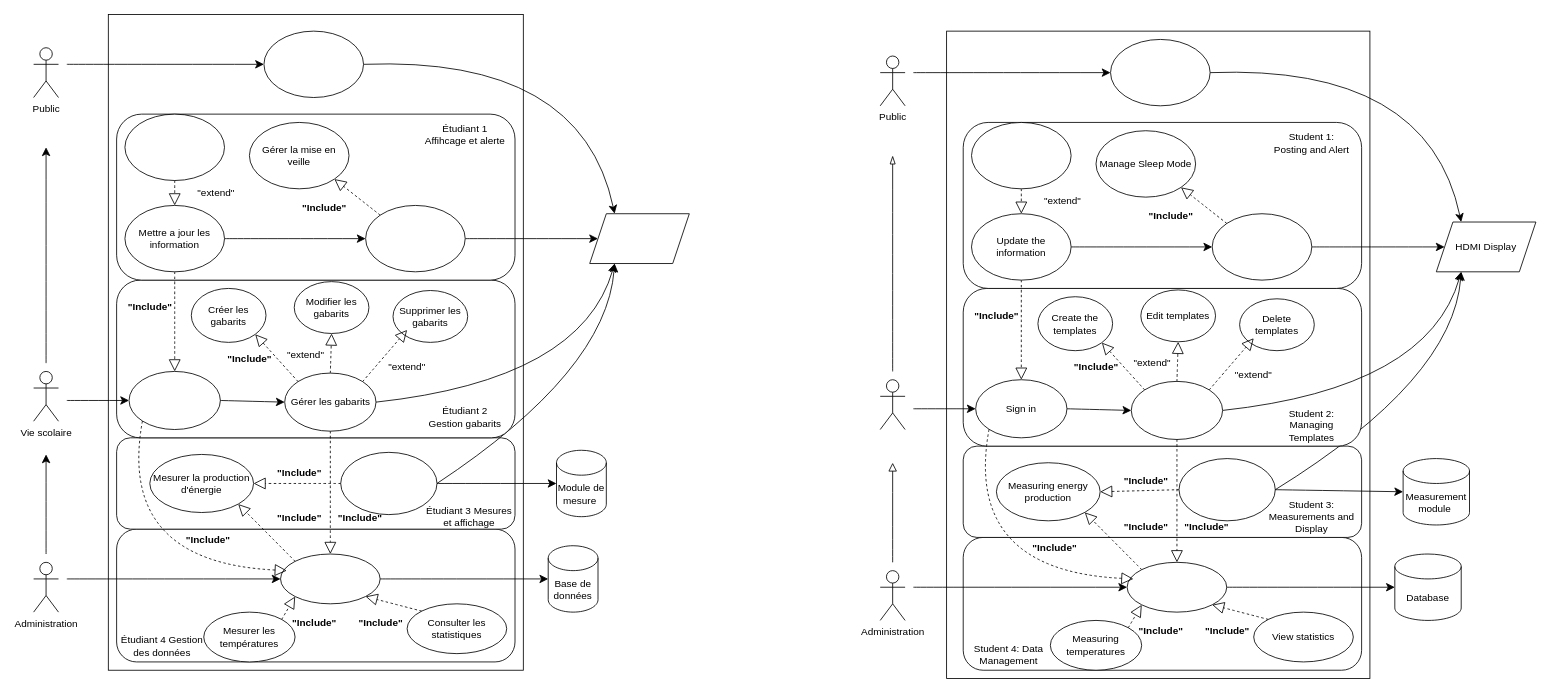
The diagram is 1550 pixels wide and 693 high, and some of its shapes have lost their labels. The centre of each missing label's shape, as x and y in pixels:
"Afficher les infos mesurées" belongs at (388,483).
"Afficher les infos sur les afficheur" belongs at (415,238).
"Afficheur HDMI" belongs at (639,238).
"Consulter les informations affichées" belongs at (313,64).
"Create an administrative alert" belongs at (1021,155).
"Créer une alerte administrative" belongs at (174,147).
"Display information on the screens" belongs at (1261,246).
"Display measured data" belongs at (1226,489).
"Enregistrer les données" belongs at (330,578).
"Manage templates" belongs at (1176,410).
"S'authentifier" belongs at (174,400).
"Save the data" belongs at (1176,586).
"school life" belongs at (892,404).
"View the displayed information" belongs at (1160,72).
